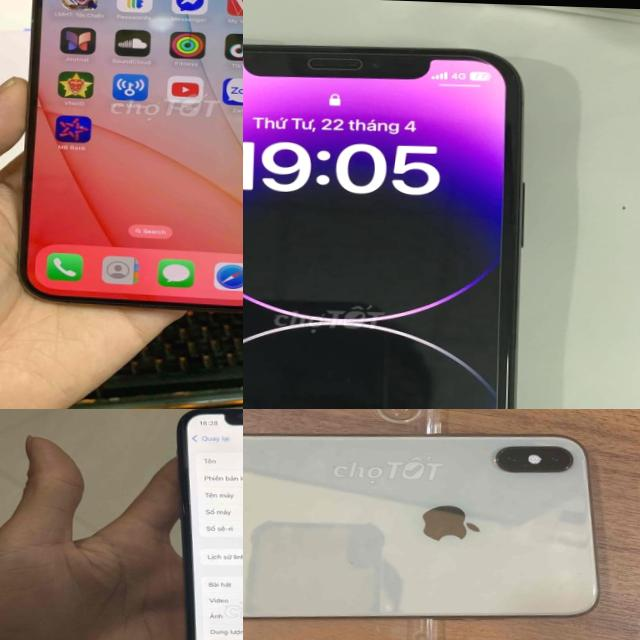gen_14: (0, 0, 243, 312)
gen_x_xs: (243, 25, 540, 409), (243, 434, 596, 616), (164, 409, 243, 640)
